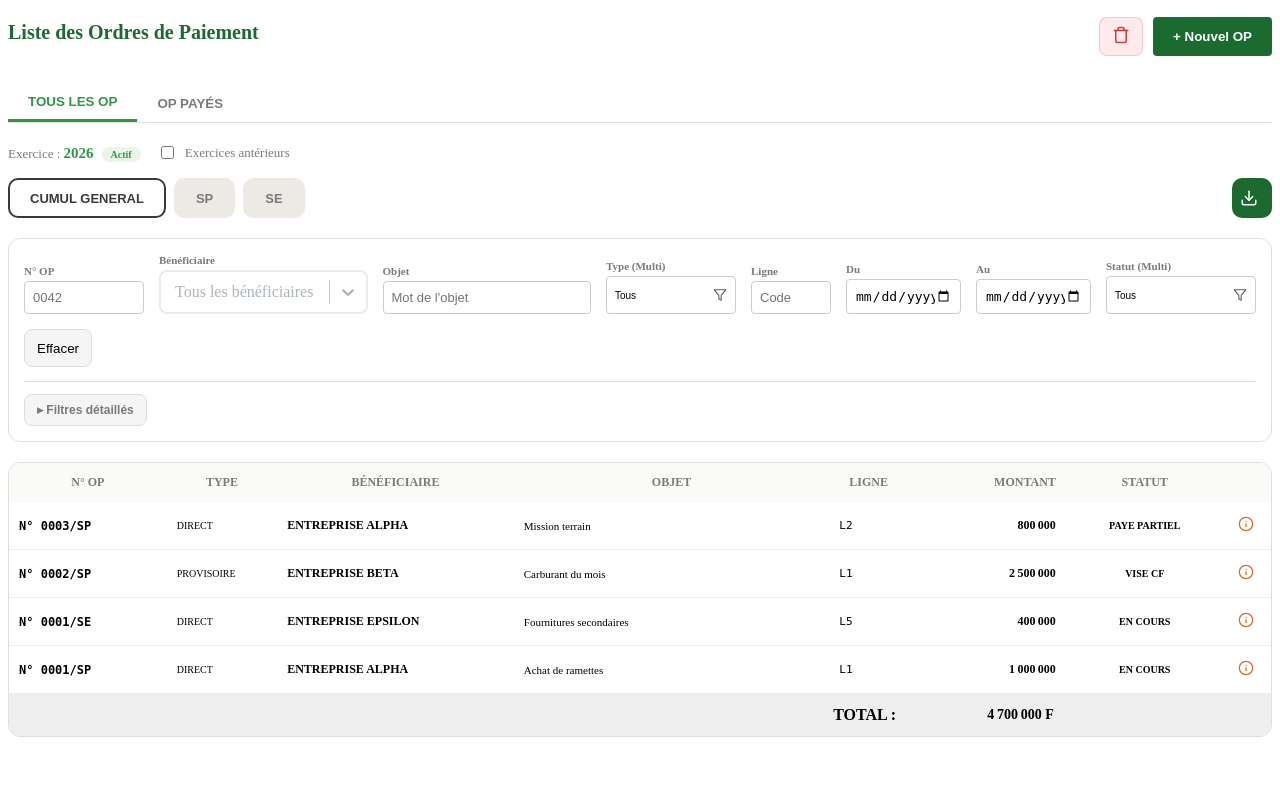
Test: Liste OP — les sources › les colonnes budgétaires n'apparaissent que source par source
The width and height of the screenshot is (1280, 800).
Expected: the text "Dotation" is not shown
Expected: the text "Disponible" is not shown
Click the button "SP": click(205, 198) [174,178,235,218]
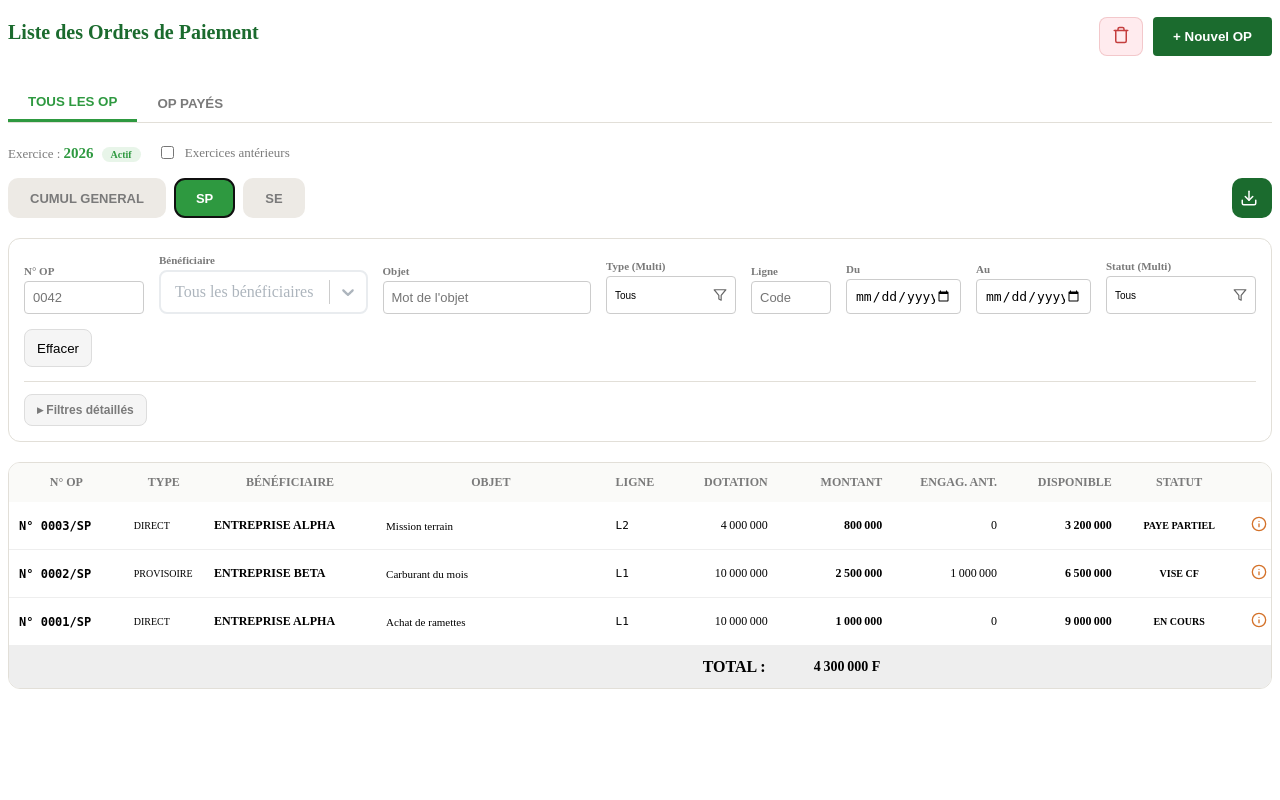
Expected: the column heading "Dotation" is shown, [663,463,778,502]
Expected: the column heading "Engag. Ant." is shown, [892,463,1007,502]
Expected: the column heading "Disponible" is shown, [1007,463,1122,502]
